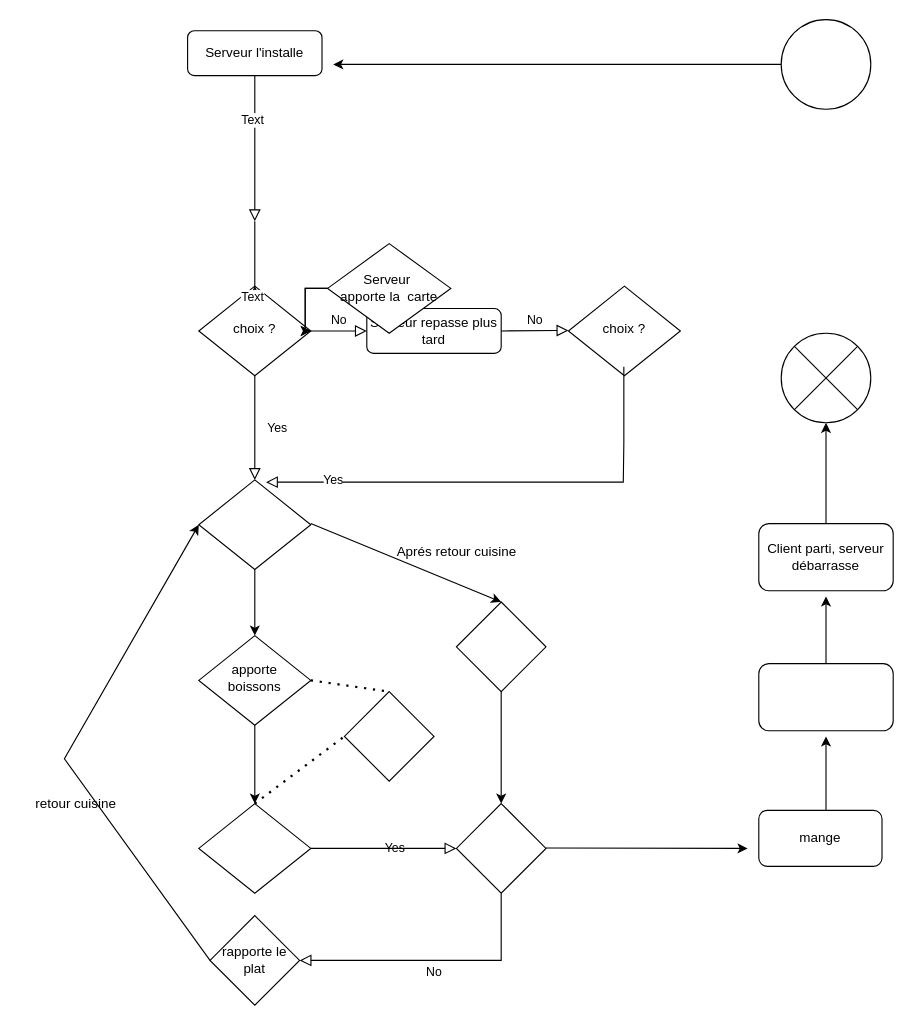
Image size: 913x1025. Some labels were removed from this diagram. Each missing label, with the centre of its shape:
Apporte le plat: point (254, 847)
Client arrive: point (825, 63)
commande va à la cuisine: point (254, 524)
Couverts et pain éventuellement: point (388, 735)
Serveur apporte addition et client paye: point (825, 696)
